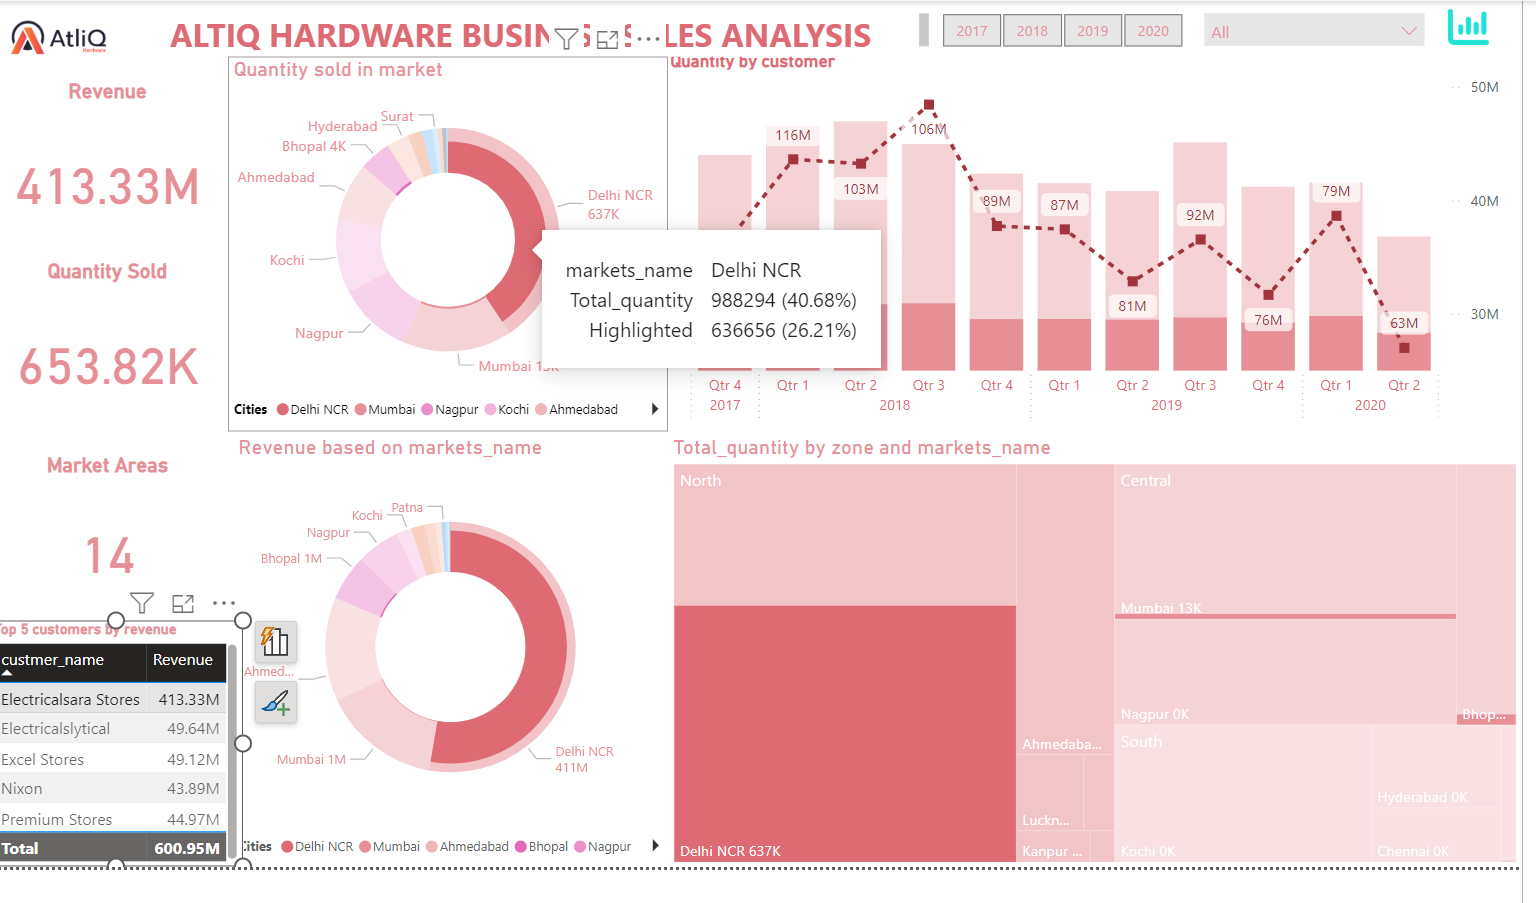

Layout of this report page (visuals, bound fields, positions):
{"tool":"powerbi","page":{"name":"Page 1","canvas":[1280,720],"ordinal":0},"visuals":[{"type":"card","title":"Market Areas","fields":{"Values":["BaseMeasures.Unique areas"]},"box":[0,375,208.8,141.2],"z":0},{"type":"tableEx","title":"Top 5 customers by revenue","fields":{"Values":["sales customers.custmer_name","BaseMeasures.Revenue"]},"box":[5,515,212.5,205],"z":1000},{"type":"lineClusteredColumnComboChart","title":"Quantity by customer","fields":{"Y":["BaseMeasures.Total_quantity"],"Category":["sales date.cy_date.Variation.Date Hierarchy.Year","sales date.cy_date.Variation.Date Hierarchy.Quarter"],"Y2":["BaseMeasures.Revenue"]},"box":[566.7,41.7,698.8,316.7],"z":2000},{"type":"slicer","fields":{"Values":["sales date.year"]},"box":[772.5,3.8,248.8,41.2],"z":3000},{"type":"slicer","fields":{"Values":["sales date.cy_date"]},"box":[1006.2,0,202.5,43.8],"z":4000},{"type":"donutChart","title":"Revenue based on markets_name","fields":{"Y":["BaseMeasures.Revenue"],"Category":["sales markets.markets_name"]},"box":[208.3,360,361.7,360],"z":5000},{"type":"card","title":"Quantity Sold","fields":{"Values":["BaseMeasures.Total_quantity"]},"box":[0,215,208.8,148.8],"z":6000},{"type":"treemap","fields":{"Group":["sales markets.zone"],"Values":["BaseMeasures.Total_quantity"],"Details":["sales markets.markets_name"]},"box":[570,360,710,360],"z":7000},{"type":"textbox","box":[111.2,5,681.2,41.2],"z":8000},{"type":"image","box":[1193.8,1.2,85,40],"z":9000},{"type":"card","title":"Revenue","fields":{"Values":["BaseMeasures.Revenue"]},"box":[0,65,208.8,148.8],"z":10000},{"type":"image","box":[1.2,0,131.2,65],"z":11000},{"type":"donutChart","title":"Quantity sold in market","fields":{"Y":["BaseMeasures.Total_quantity"],"Category":["sales markets.markets_name"]},"box":[205,46.2,365,311.2],"z":12000}]}

Visuals, with their boxes in screenshot pixels (x1, y1, x2, y2):
"Market Areas" card: <bbox>0, 440, 228, 613</bbox>
"Top 5 customers by revenue" tableEx: <bbox>0, 612, 239, 863</bbox>
"Quantity by customer" lineClusteredColumnComboChart: <bbox>667, 31, 1525, 420</bbox>
slicer - sales date.year: <bbox>920, 0, 1225, 35</bbox>
slicer - sales date.cy_date: <bbox>1207, 0, 1455, 34</bbox>
"Revenue based on markets_name" donutChart: <bbox>228, 422, 671, 863</bbox>
"Quantity Sold" card: <bbox>0, 244, 228, 426</bbox>
treemap - sales markets.zone x BaseMeasures.Total_quantity: <bbox>671, 422, 1535, 863</bbox>
textbox: <bbox>108, 0, 944, 37</bbox>
image: <bbox>1437, 0, 1535, 31</bbox>
"Revenue" card: <bbox>0, 60, 228, 242</bbox>
image: <bbox>0, 0, 134, 60</bbox>
"Quantity sold in market" donutChart: <bbox>224, 37, 671, 418</bbox>
